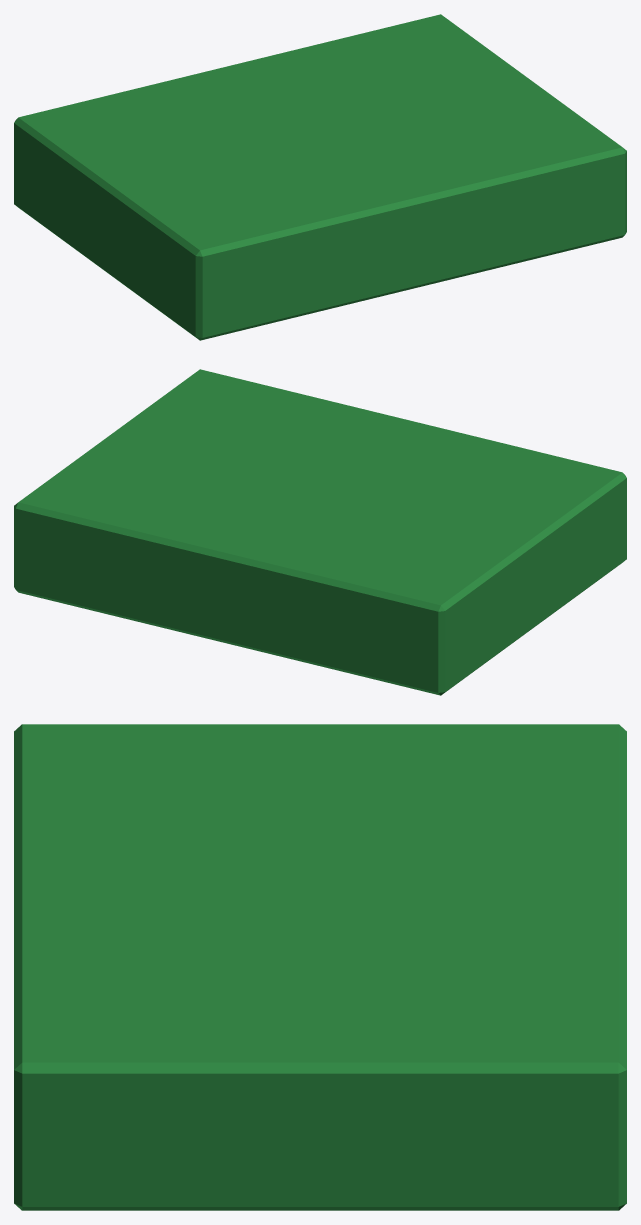
Rendered from loading_platform.glb.
3 renders of one model, top to bottom at view 1: azimuth 30°, elevation 25°; view 2: azimuth 150°, elevation 25°; view 3: azimuth 270°, elevation 25°, orthographic. The views are drawn at different scales.
Parts seen in each view (by area): view 1: loading_platform; view 2: loading_platform; view 3: loading_platform.
Boxes of the visible parts, <box> form: loading_platform: <box>14,14,626,340</box>; loading_platform: <box>14,369,626,695</box>; loading_platform: <box>14,724,626,1210</box>.
Size of the model in its own units: 0.8 by 0.16 by 0.6.
